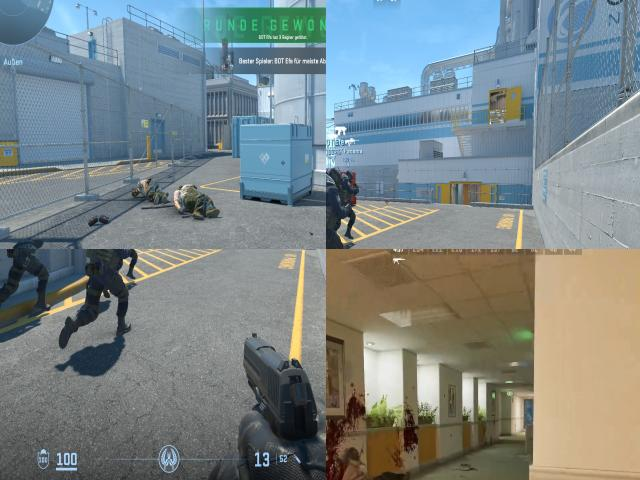CT: (84, 249, 126, 348), (11, 249, 46, 318), (338, 165, 360, 231), (326, 170, 344, 249), (119, 249, 141, 271), (85, 249, 110, 266)
CT-Head: (331, 169, 342, 181), (346, 170, 352, 182), (326, 168, 329, 177)
Dead: (340, 449, 413, 480), (179, 182, 219, 208), (132, 176, 168, 204), (169, 192, 200, 221)
